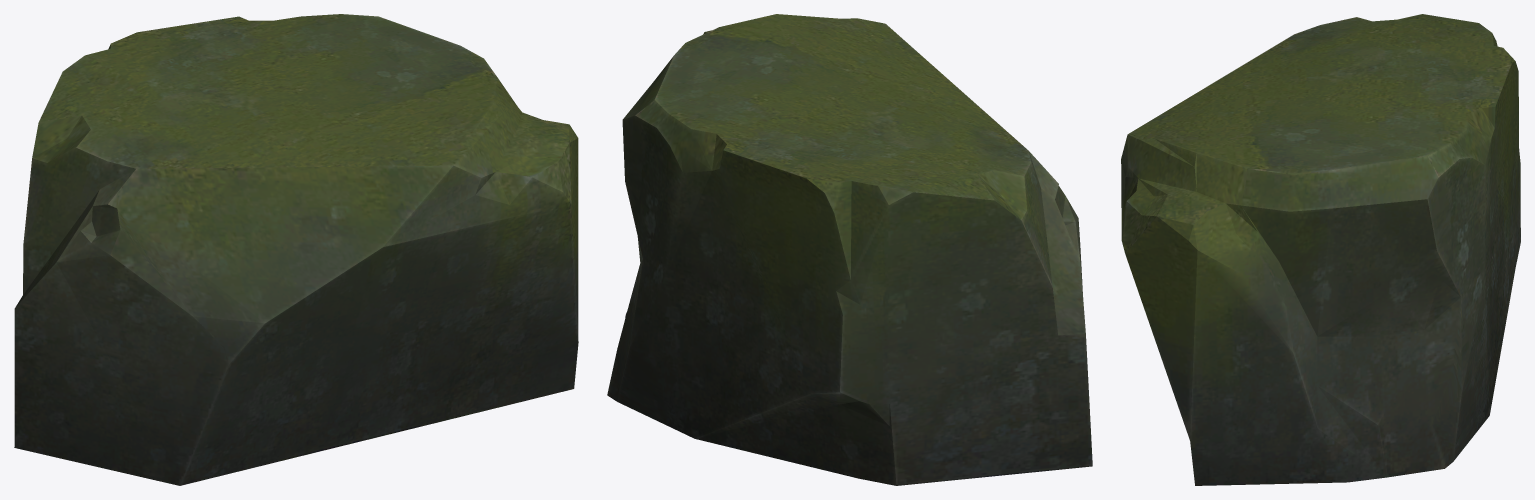
The model's file is riveredge_rock007a.glb.
3 views of the same model, side by side, from view 1: azimuth 30°, elevation 25°; view 2: azimuth 150°, elevation 25°; view 3: azimuth 270°, elevation 25° (orthographic). The views are drawn at different scales.
Parts seen in each view (by area): view 1: models\props_rock\riveredge_rock007a.vmdl_c.riveredge_rock00; view 2: models\props_rock\riveredge_rock007a.vmdl_c.riveredge_rock00; view 3: models\props_rock\riveredge_rock007a.vmdl_c.riveredge_rock00.
Part boxes in pixels (bbox=[...]): models\props_rock\riveredge_rock007a.vmdl_c.riveredge_rock00: bbox=[14, 14, 578, 485]; models\props_rock\riveredge_rock007a.vmdl_c.riveredge_rock00: bbox=[607, 14, 1092, 485]; models\props_rock\riveredge_rock007a.vmdl_c.riveredge_rock00: bbox=[1121, 14, 1520, 485].
Size of the model in its own units: 6.83 by 4.1 by 5.04.
1 material, 1 textured.
